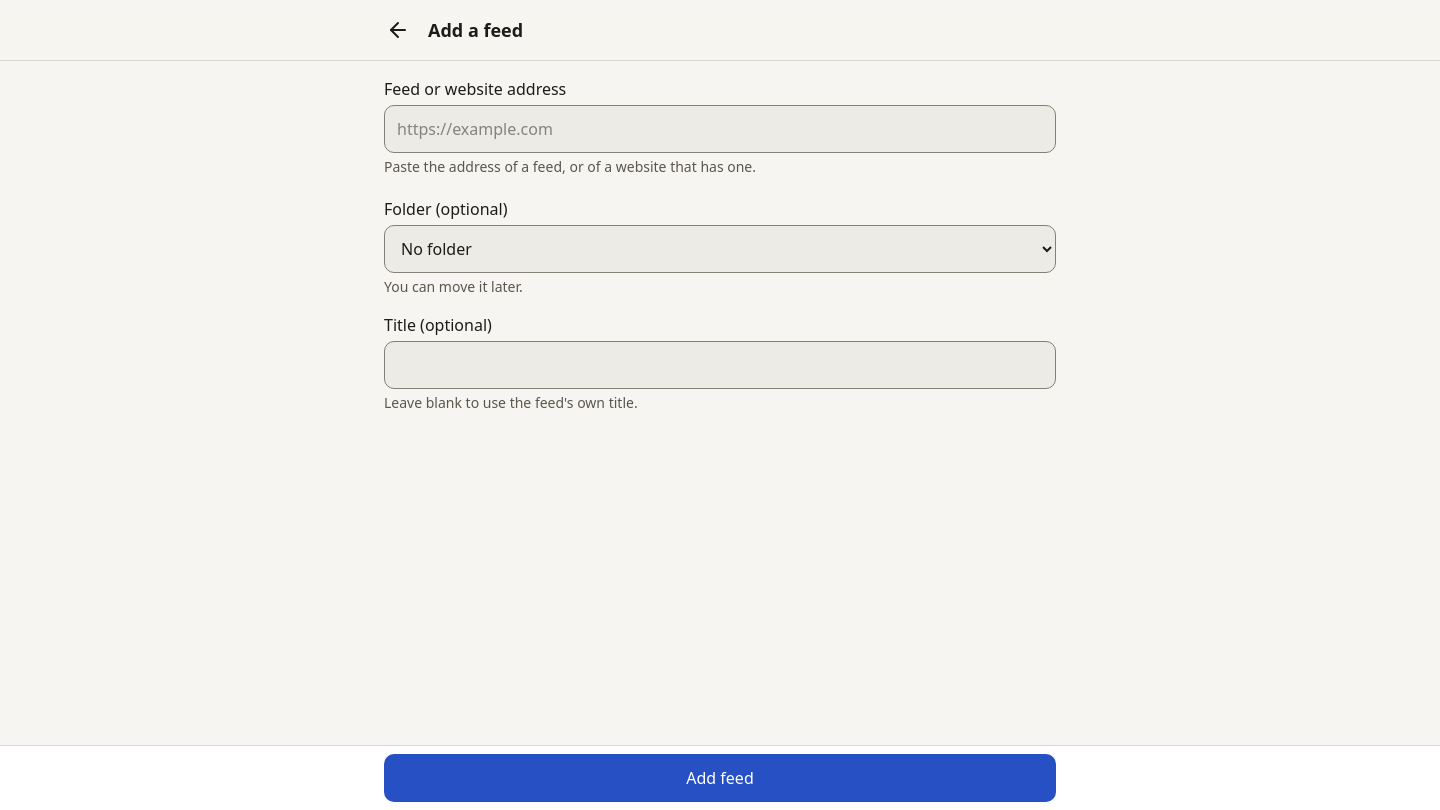
Test: the form › an empty address is an inline error and sends nothing
Step 1. Click the button "Add feed" → (720, 778), box 384,754 -> 1056,802
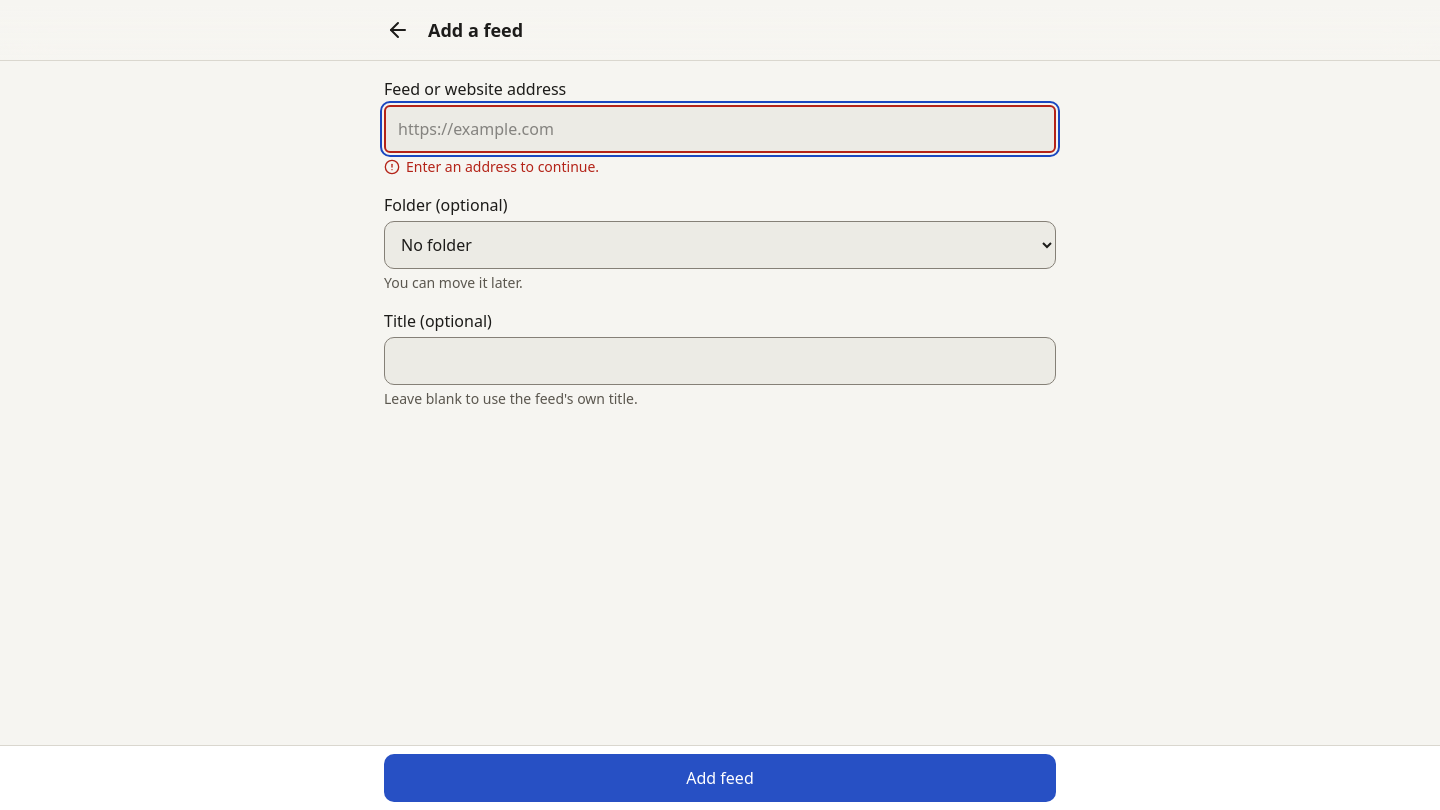
Check: the text "Enter an address to continue." is shown, box 406,157 -> 599,177
